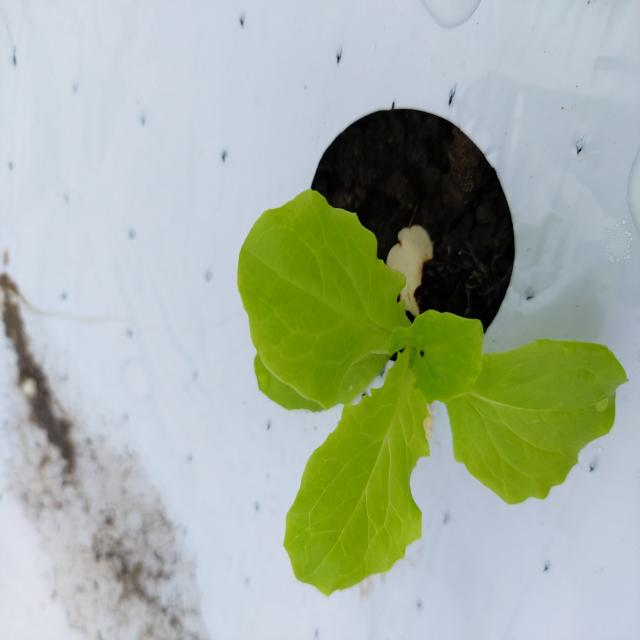Lettuce-Not-Ready-to-Harvest: (246, 185, 625, 590)
